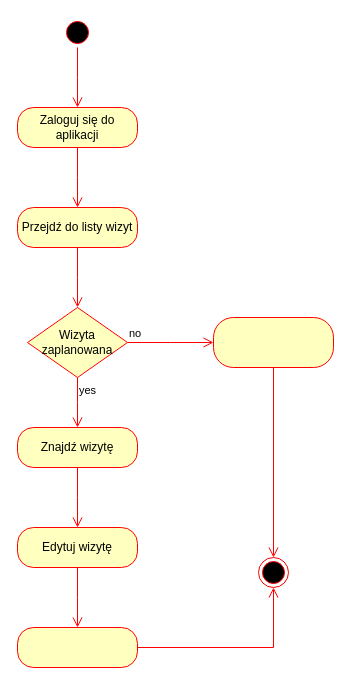
Some shapes in this 351 by 685 pixel diagram are drawn without their labels. Each missing label, with the box of its shape:
Dodaj wizytę z odpowiednim statusem: (212, 316, 334, 368)
Nadaj odpowiedni status: (16, 626, 138, 668)
